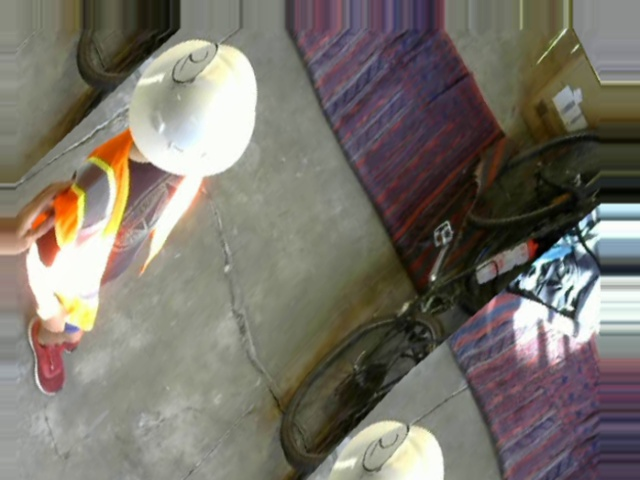two: (166, 29, 222, 90)
